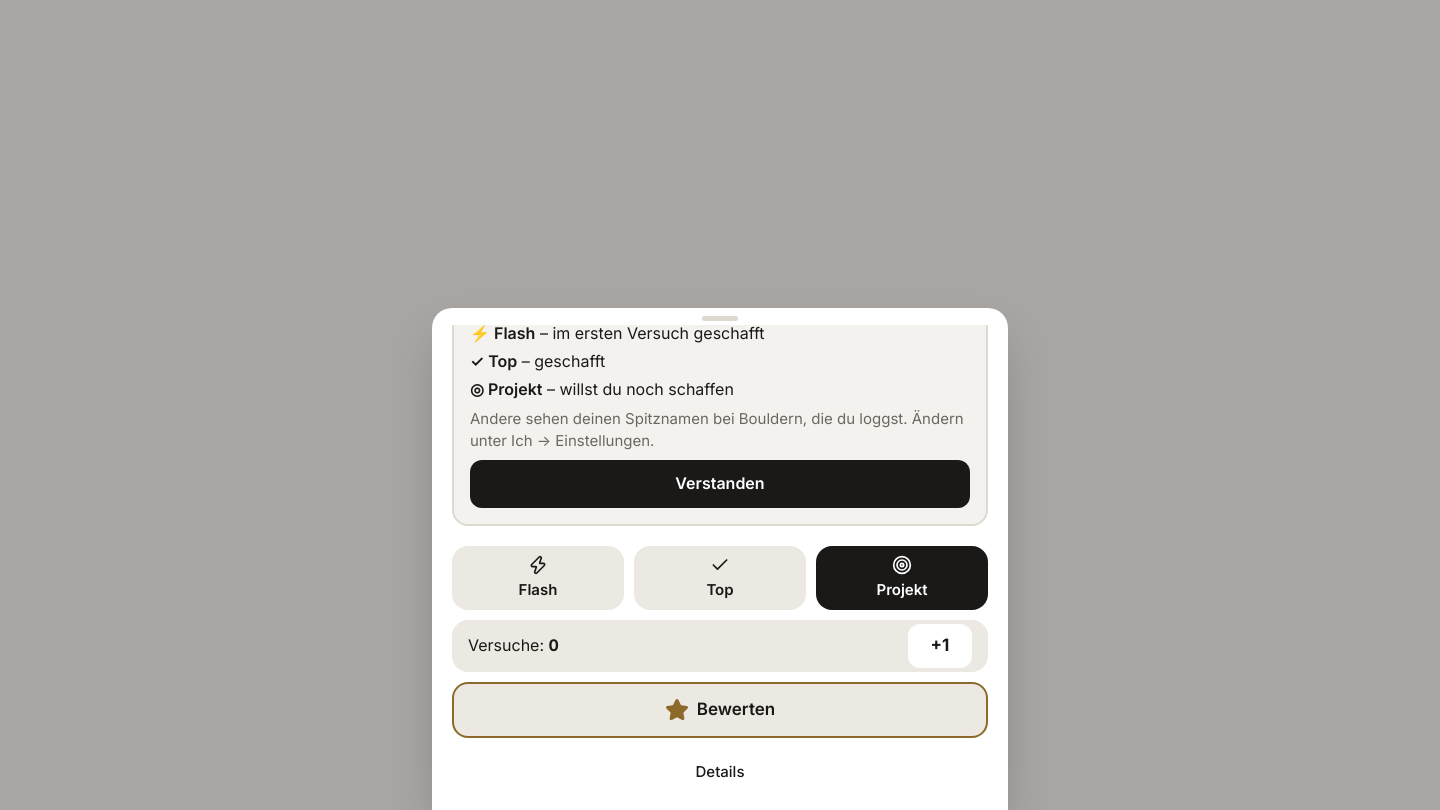
Test: SPEC-003: UI Components Integration › BoulderSheet (AC-1, AC-3, AC-8, AC-9) › renders route discussion feed and allows posting a beta comment
(page scrolled)
Step 1. Click the button with test id "boulder-sheet-more" → point(720, 772), box [452,750,988,794]
(page scrolled)
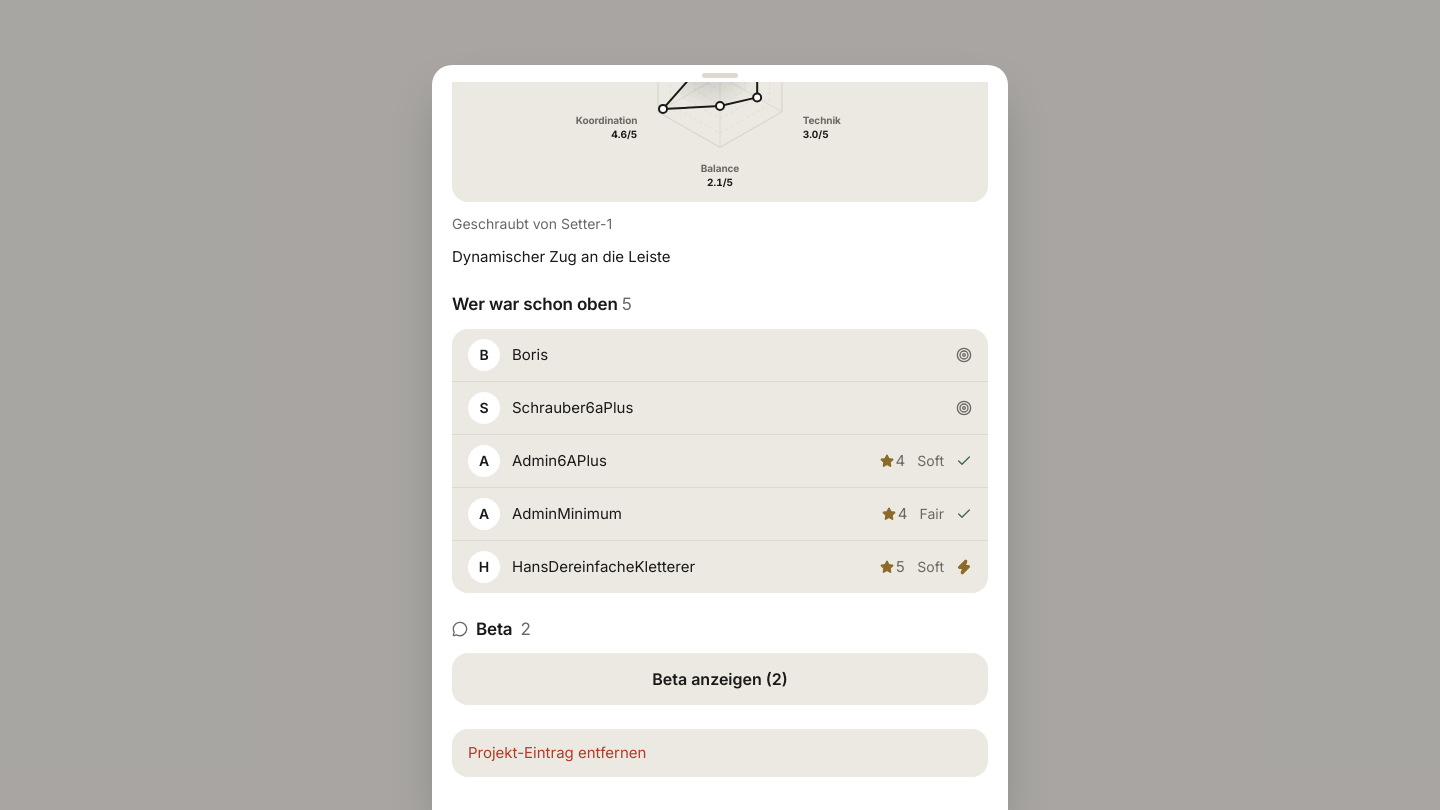
Check: the text "Der Dyno geht super" is not shown
Check: the heading "Beta 2" is shown, box [452,619,531,639]
Step 2. Click the button with test id "beta-toggle" → point(720, 679), box [452,653,988,705]
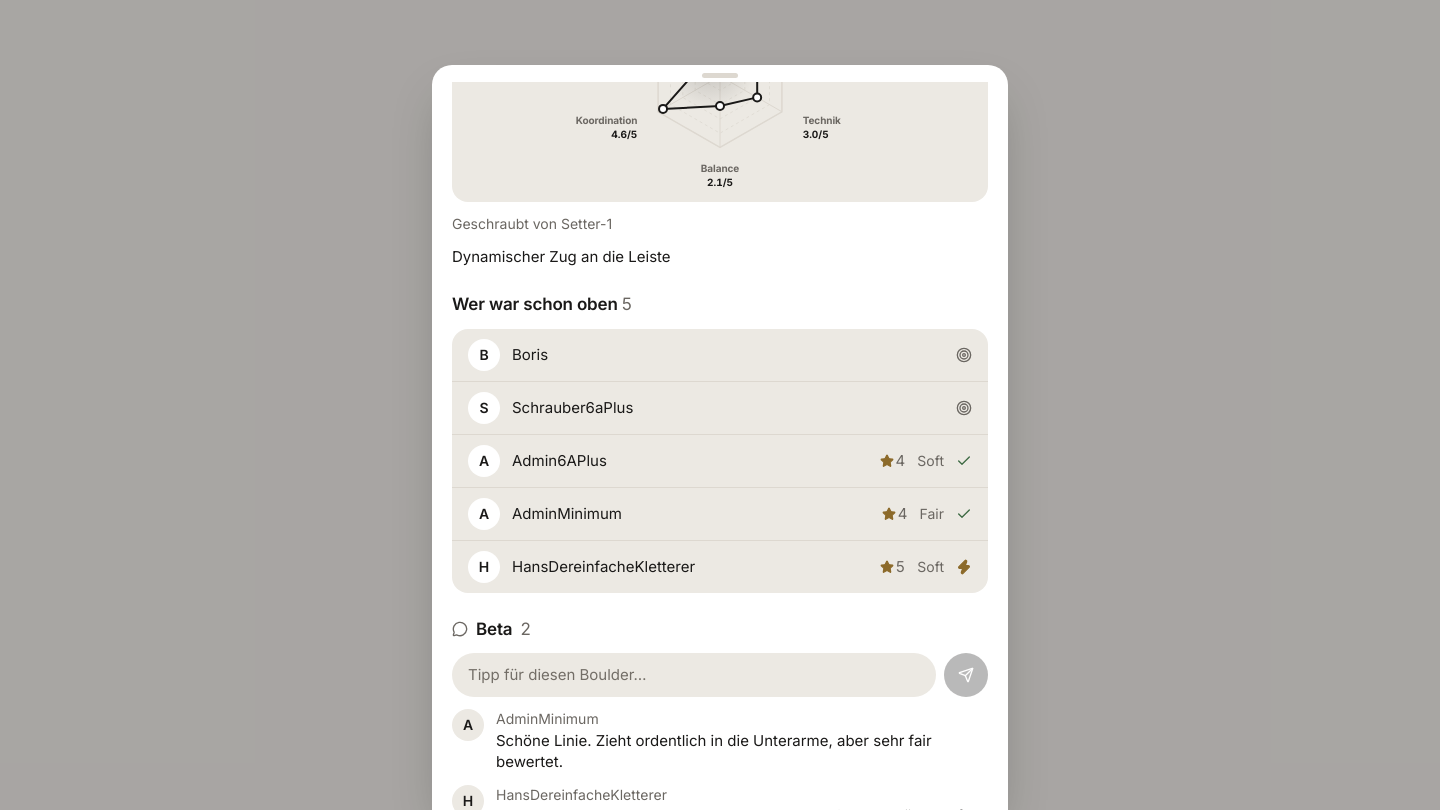
Step 3. Type "Crux mit links blockieren!" into the field with test id "boulder-comment-input" → point(694, 675), box [452,653,936,697]
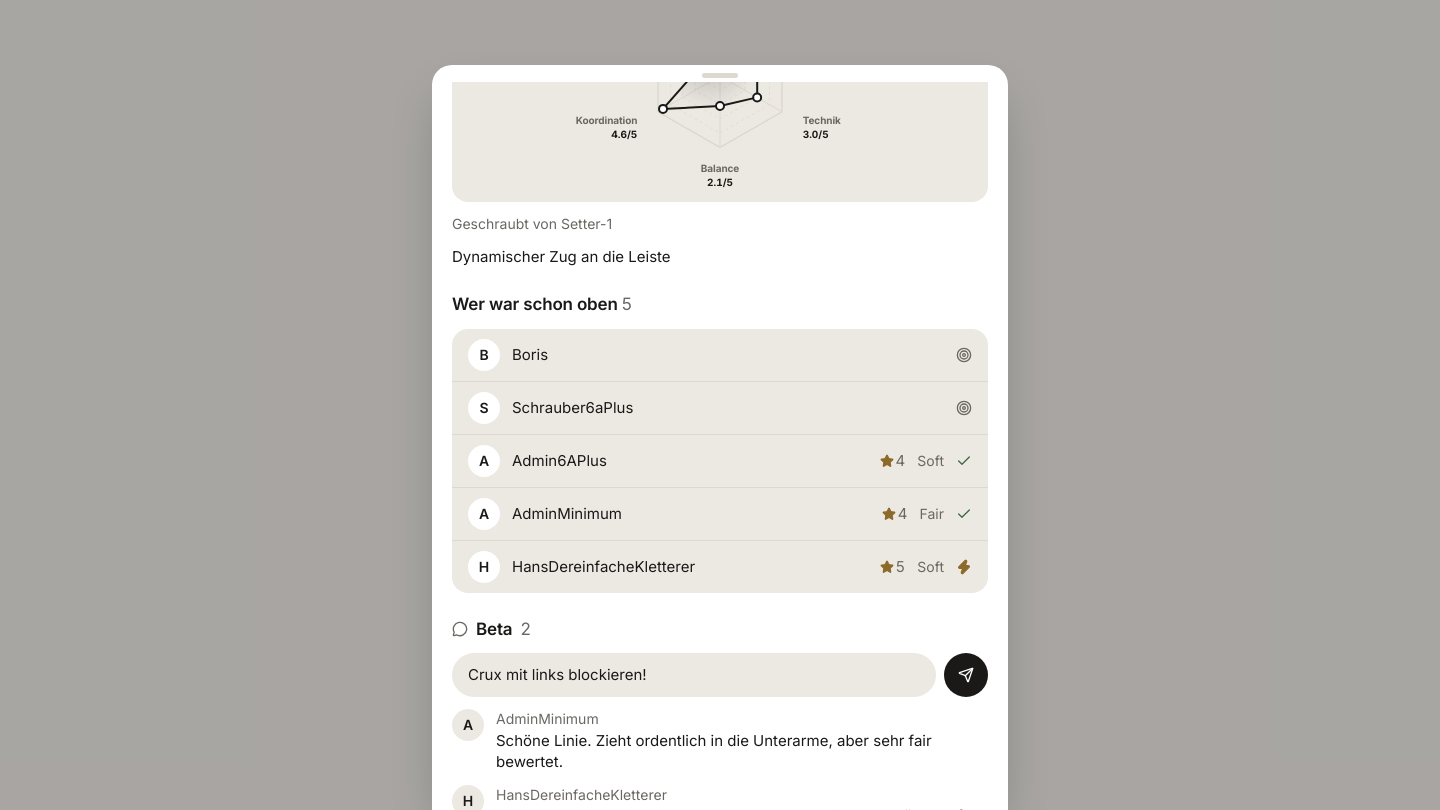
Step 4. Click the button with test id "boulder-comment-submit" → point(966, 675), box [944,653,988,697]
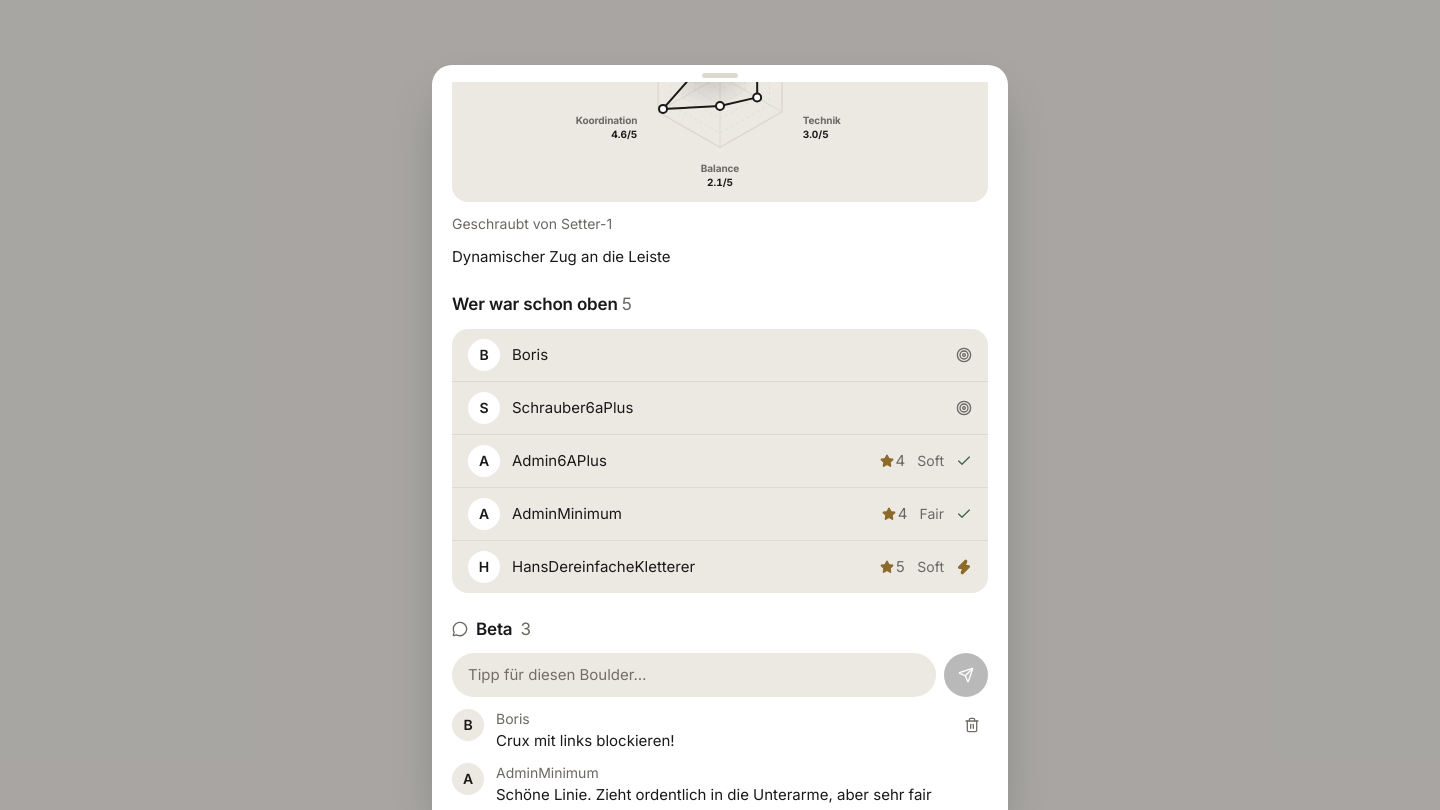
Check: the text "Crux mit links blockieren!" is shown, box [496,731,675,750]
